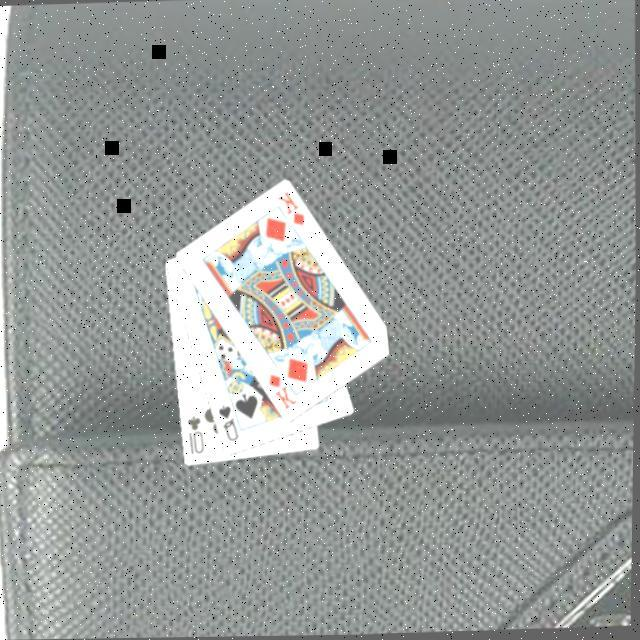10C: (182, 414, 208, 460)
KD: (264, 372, 300, 416), (272, 190, 308, 232)
QS: (214, 404, 242, 447)
